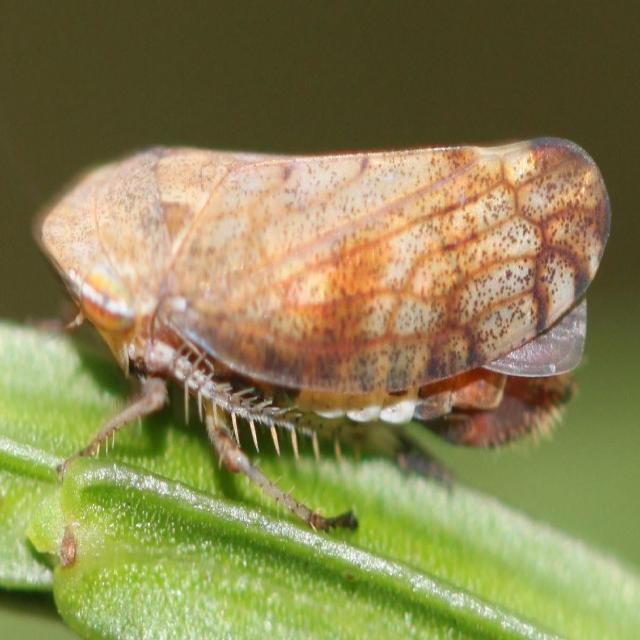Yechan: (25, 102, 620, 500)
